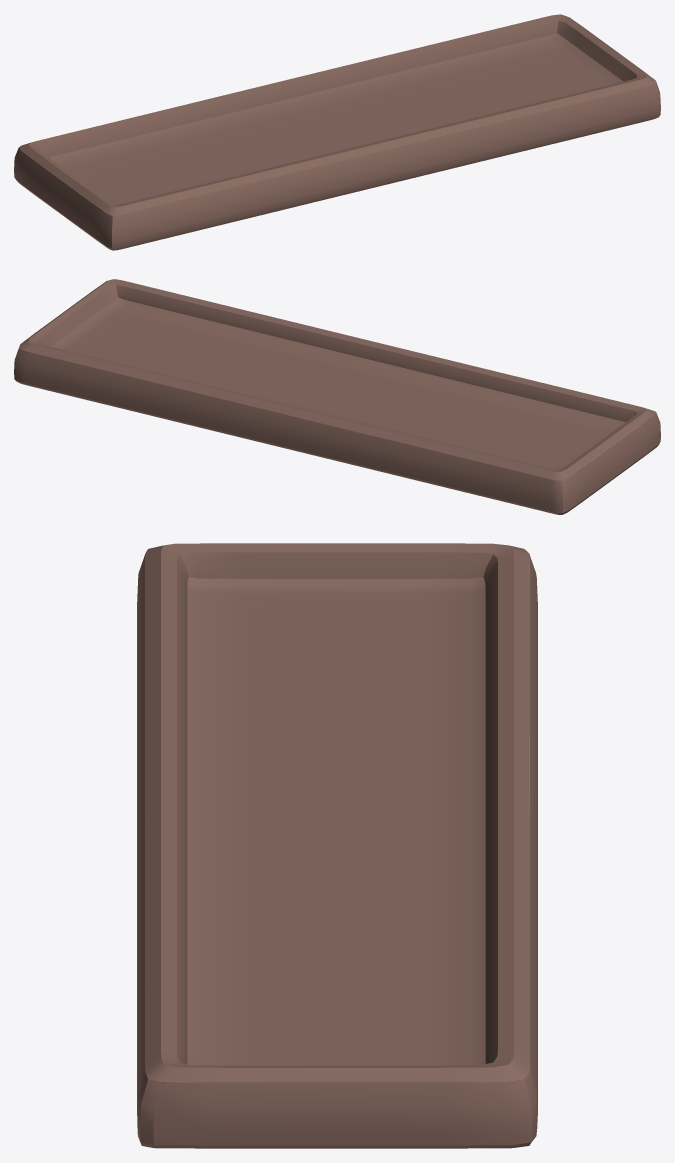
Rendered from SoapTray.glb.
The picture shows the model from 3 angles, top to bottom: view 1: azimuth 30°, elevation 25°; view 2: azimuth 150°, elevation 25°; view 3: azimuth 270°, elevation 25°; orthographic projection. The views are drawn at different scales.
Visible parts, largest first — view 1: Soap Tray; view 2: Soap Tray; view 3: Soap Tray.
Part boxes in pixels (box(x1,y1,x2,y2)): Soap Tray: box(14, 14, 660, 250); Soap Tray: box(14, 279, 660, 514); Soap Tray: box(137, 543, 537, 1148).
Bounding box in the file's own units: 0.5558 × 0.0373 × 0.1739.
1 material, 1 textured.
